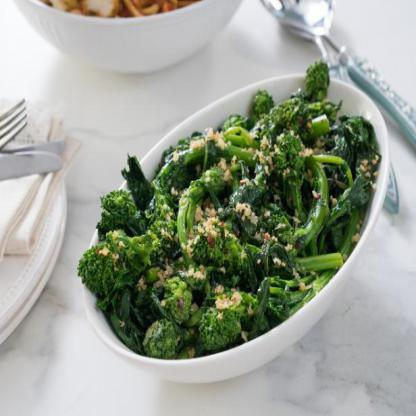broccoli: (79, 58, 385, 358)
